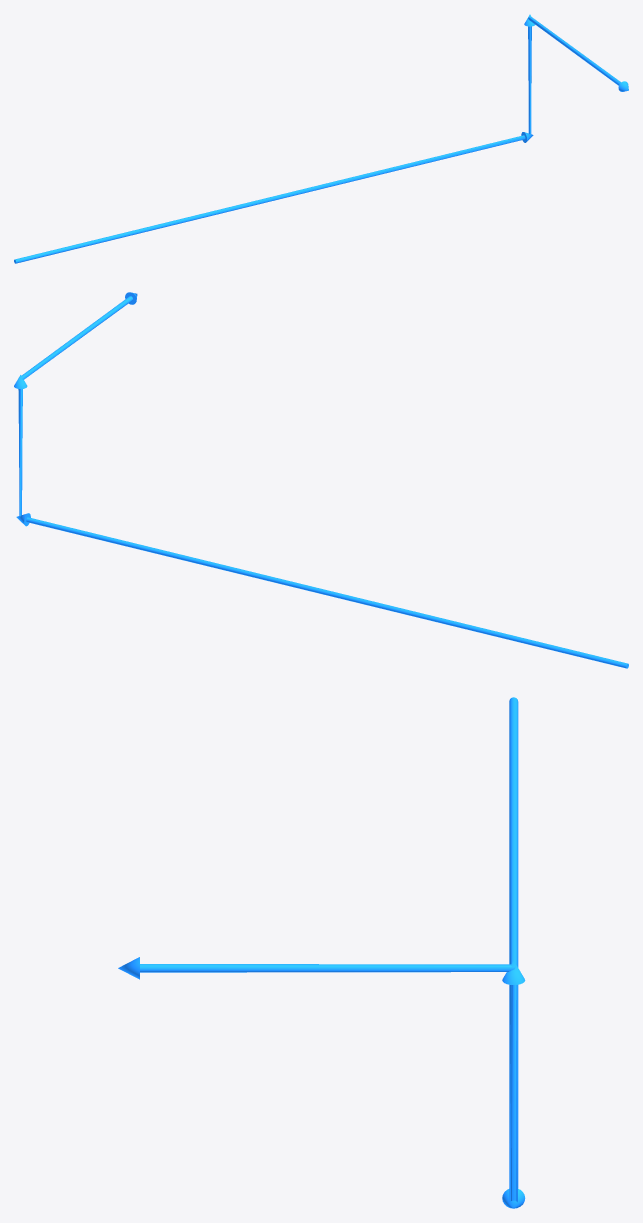
File: pig_receiver_flow.glb
3 views of the same model, one above another, from view 1: azimuth 30°, elevation 25°; view 2: azimuth 150°, elevation 25°; view 3: azimuth 270°, elevation 25° (orthographic). The views are drawn at different scales.
Visible parts, largest first — view 1: arrival_flow; view 2: arrival_flow; view 3: arrival_flow.
Boxes of the visible parts, x1=… form: arrival_flow: x1=14, y1=14, x2=628, y2=263; arrival_flow: x1=14, y1=292, x2=628, y2=668; arrival_flow: x1=118, y1=697, x2=525, y2=1208.
Bounding box in the file's own units: 2.17 × 0.5116 × 0.7368.
